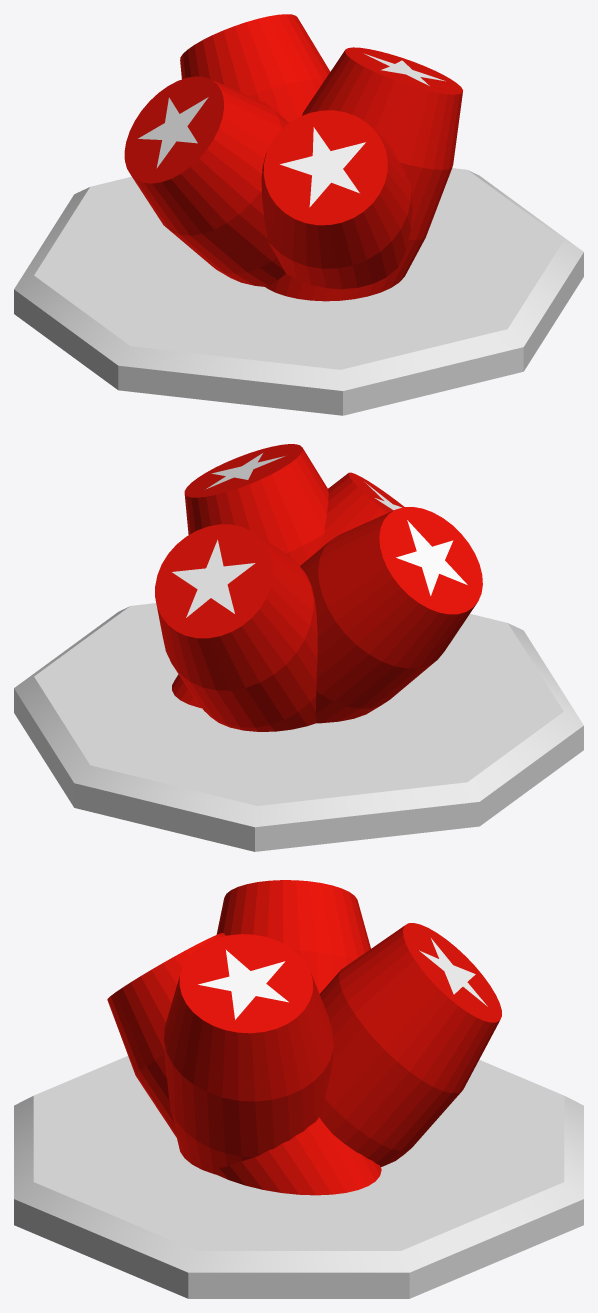
Rendered from 4Pingers.fbx.
The picture shows the model from 3 angles, top to bottom: view 1: azimuth 30°, elevation 25°; view 2: azimuth 150°, elevation 25°; view 3: azimuth 270°, elevation 25°; orthographic projection. The views are drawn at different scales.
Visible parts, largest first — view 1: Cube.001, Text.004, Text.002, Text.003, Text.001; view 2: Cube.001, Text.001, Text.004, Text.003, Text.002; view 3: Cube.001, Text.003, Text.001, Text.002, Text.004.
Part boxes in pixels (box(x1,y1,x2,y2)): Cube.001: box(14, 168, 583, 415); Text.004: box(124, 76, 288, 286); Text.002: box(261, 110, 412, 289); Text.003: box(265, 47, 462, 301); Text.001: box(180, 14, 330, 122); Cube.001: box(14, 603, 583, 851); Text.001: box(155, 524, 317, 731); Text.004: box(300, 507, 482, 723); Text.003: box(184, 444, 328, 565); Text.002: box(172, 472, 403, 708); Cube.001: box(14, 1056, 583, 1298); Text.003: box(164, 934, 333, 1174); Text.001: box(319, 923, 501, 1166); Text.002: box(107, 933, 381, 1195); Text.004: box(216, 880, 370, 993).
Bounding box in the file's own units: 90.03 × 53.41 × 90.03.
